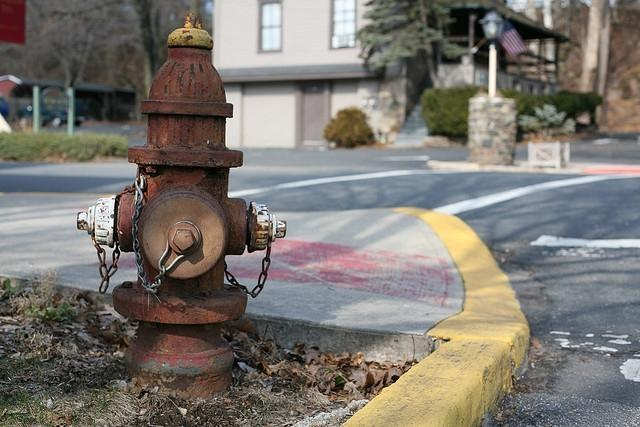car: (8, 82, 86, 122)
